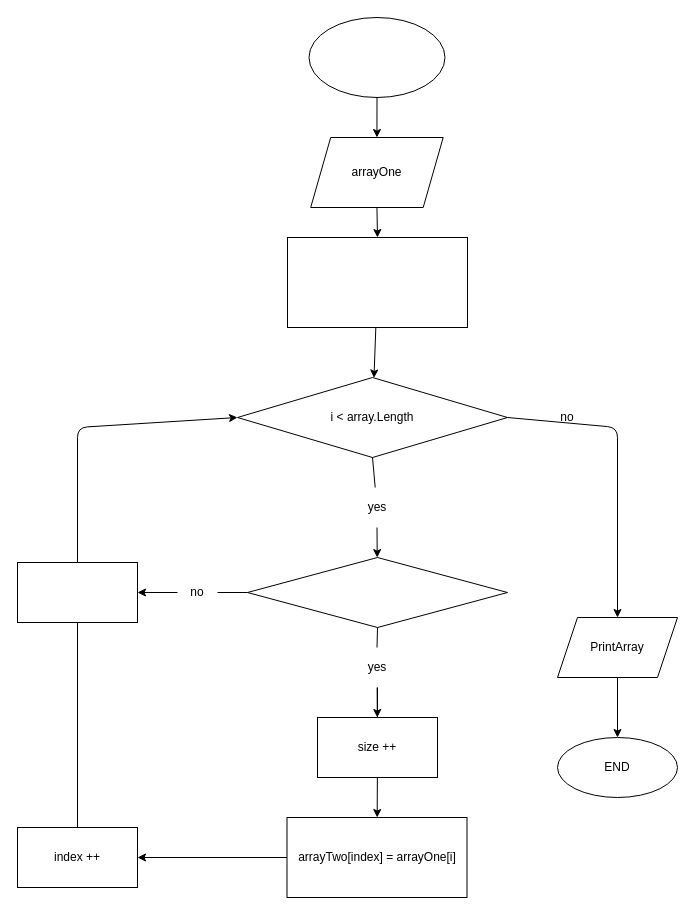
Image size: 695x915. Some labels were removed from this diagram. The shapes that lost their labels are listed below. From the top down, each one's centre as x and y in pixels, then its label:
(x=376, y=57): START
(x=377, y=282): index = 0 i = 0 size = 0 maxLenght = 3 arrayTwo
(x=77, y=592): i++
(x=377, y=592): array[i].Lenght <= maxLenght
